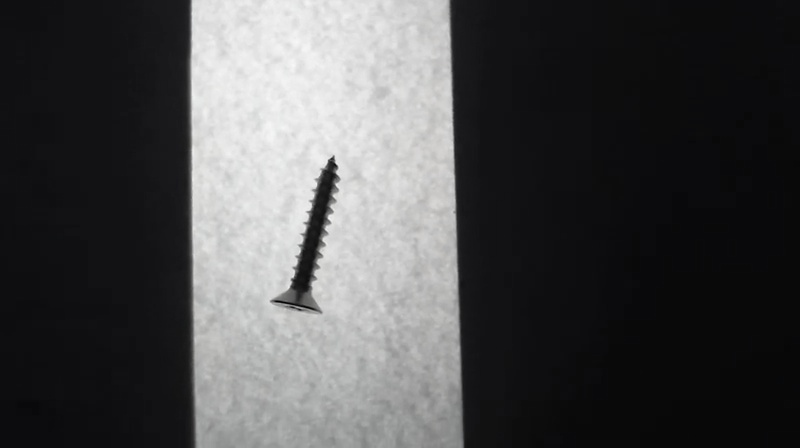S001: (266, 152, 345, 315)
